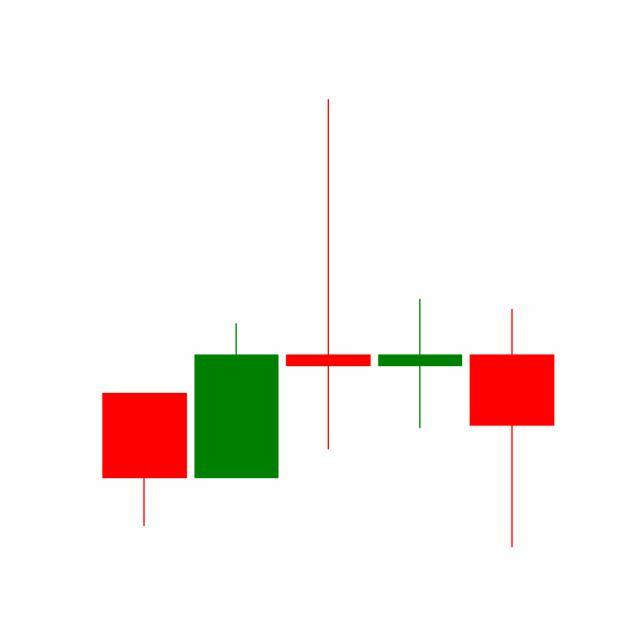Spinning Top: (374, 298, 468, 431)
